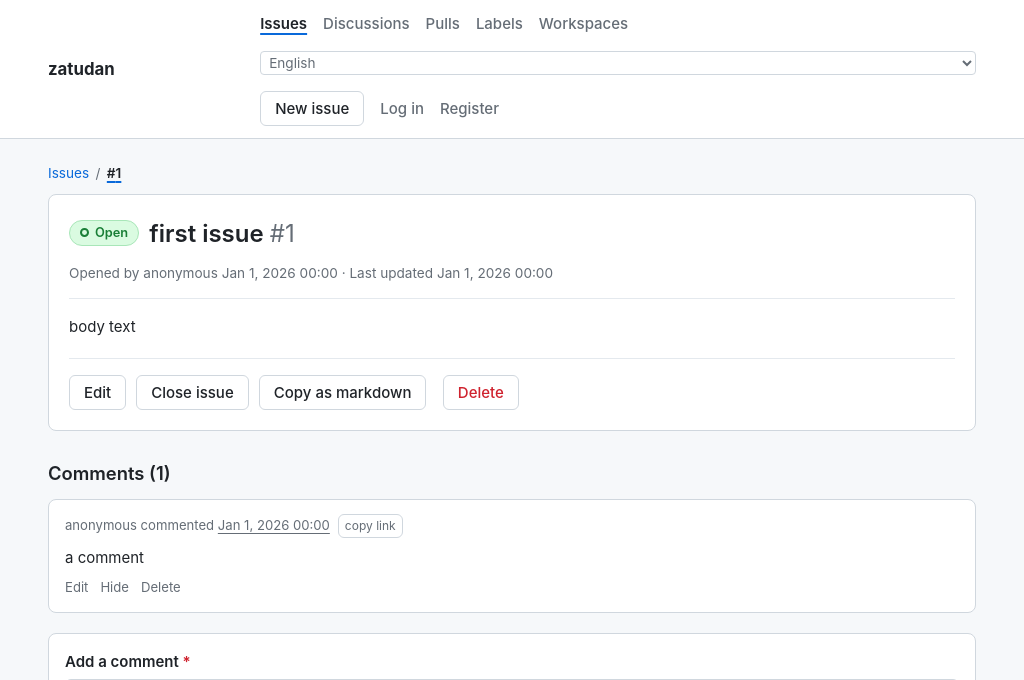
Test case: route: /issues/$issueId › edits a comment inline and shows the edited badge
Expected: the text "a comment" is shown, x1=65 y1=548 x2=144 y2=567
Click the button with aria-label "Edit comment 1". click: (77, 588)
box: x1=65 y1=578 x2=88 y2=598
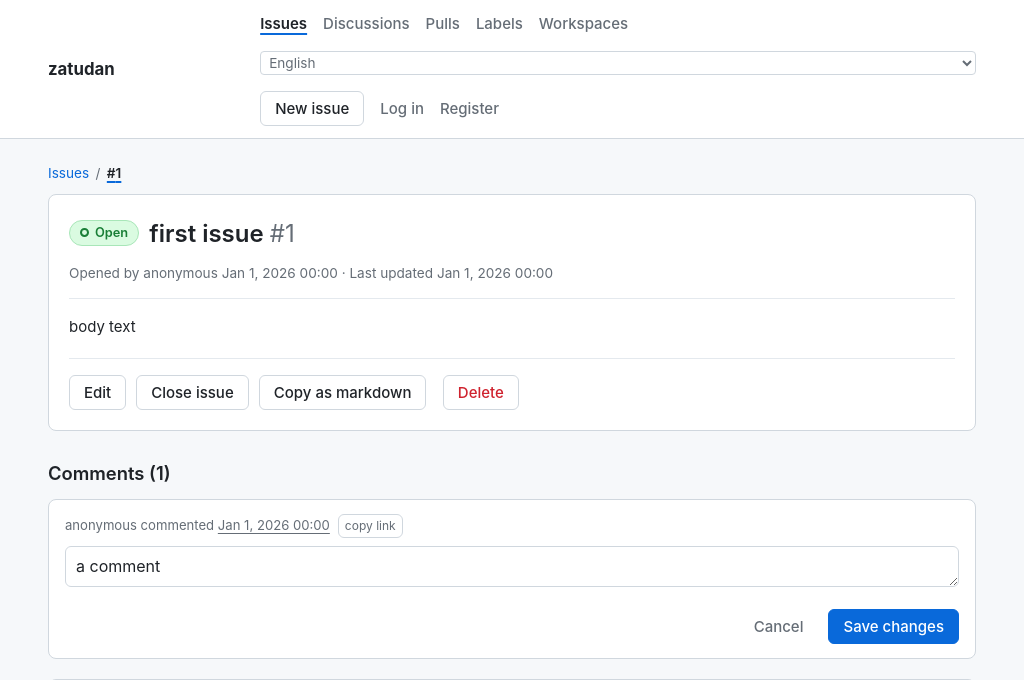
Replace the text in the text box named "comment body" with "edited body". click: (512, 567)
box: x1=65 y1=546 x2=959 y2=587
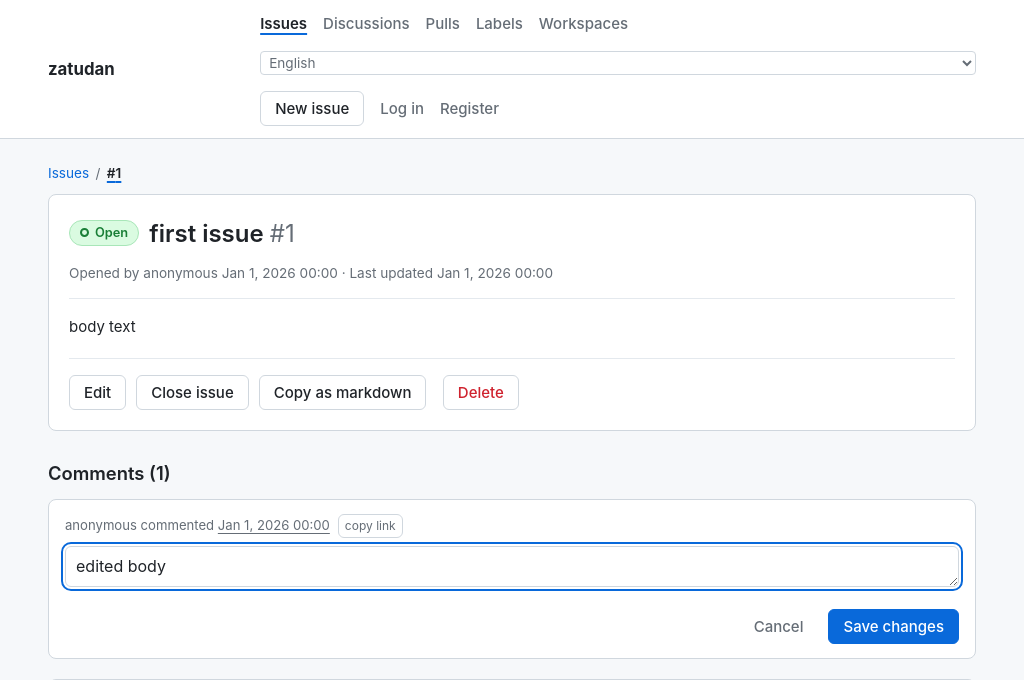
Click the button "Save changes". click: (894, 627)
box: x1=828 y1=609 x2=959 y2=644
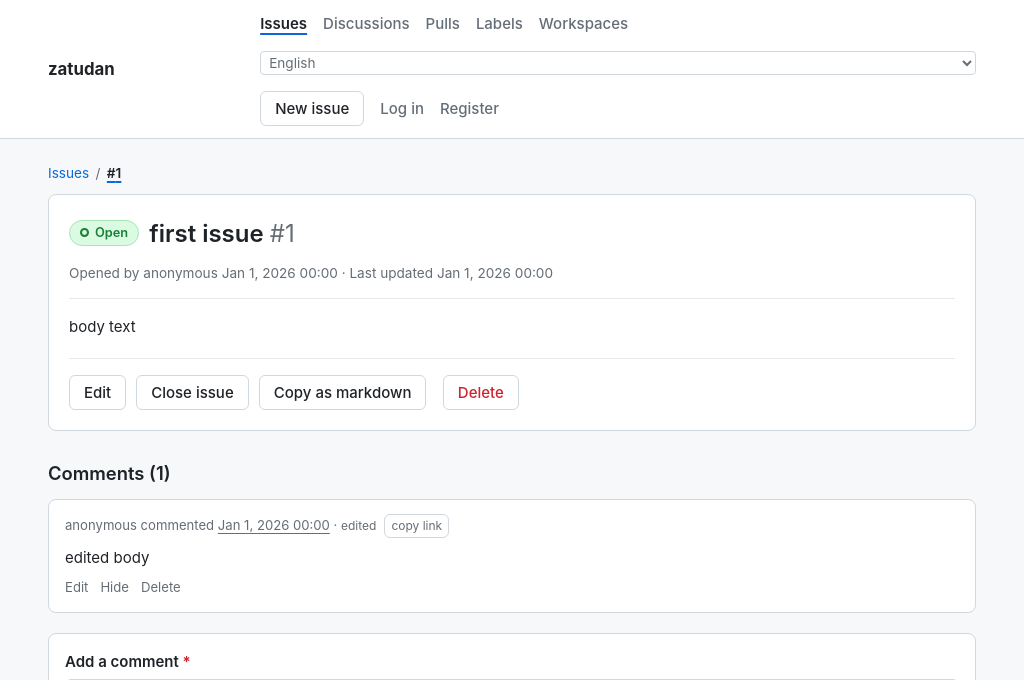
Expected: the text "edited" is shown, x1=341 y1=518 x2=376 y2=533
